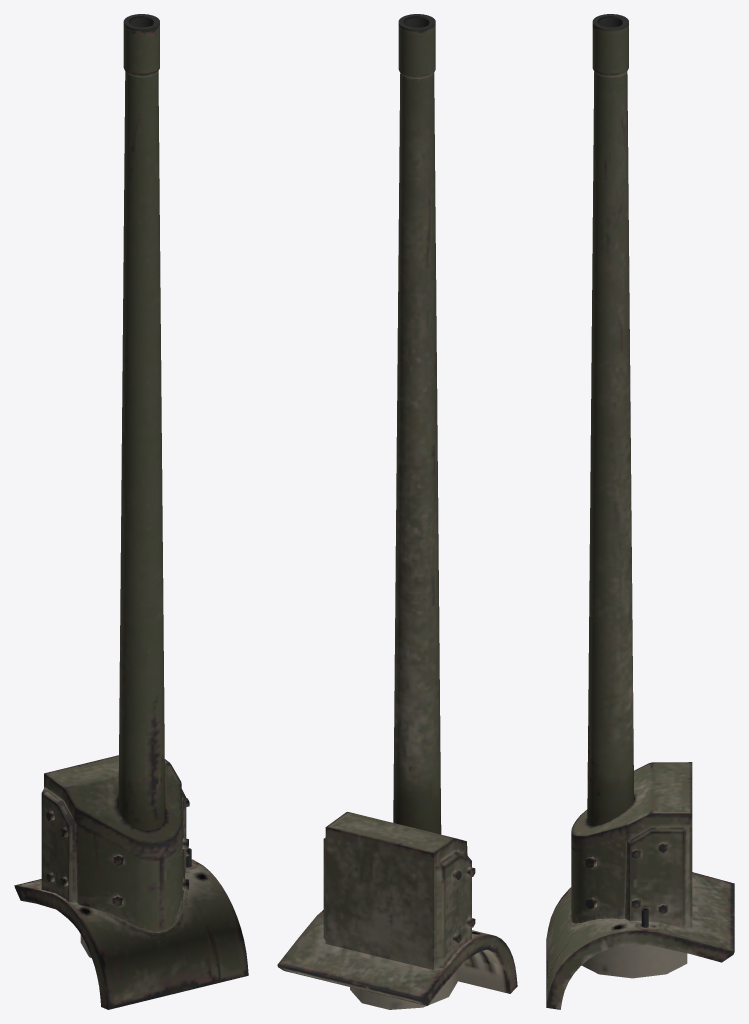
Rendered from Gun_01.glb.
The picture shows the model from 3 angles, left to right: view 1: azimuth 30°, elevation 25°; view 2: azimuth 150°, elevation 25°; view 3: azimuth 270°, elevation 25°; orthographic projection. The views are drawn at different scales.
Parts seen in each view (by area): view 1: set_0_group_0; view 2: set_0_group_0; view 3: set_0_group_0.
Boxes of the visible parts, box(x1,y1,x2,y2) form: set_0_group_0: box(14, 14, 248, 1009); set_0_group_0: box(277, 14, 517, 1009); set_0_group_0: box(546, 14, 734, 1009).
Size of the model in its own units: 0.5513 by 3.53 by 0.6326.
1 material, 1 textured.
